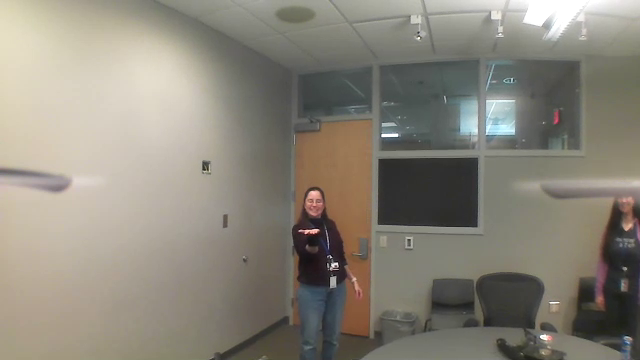land: (293, 226, 322, 241)
